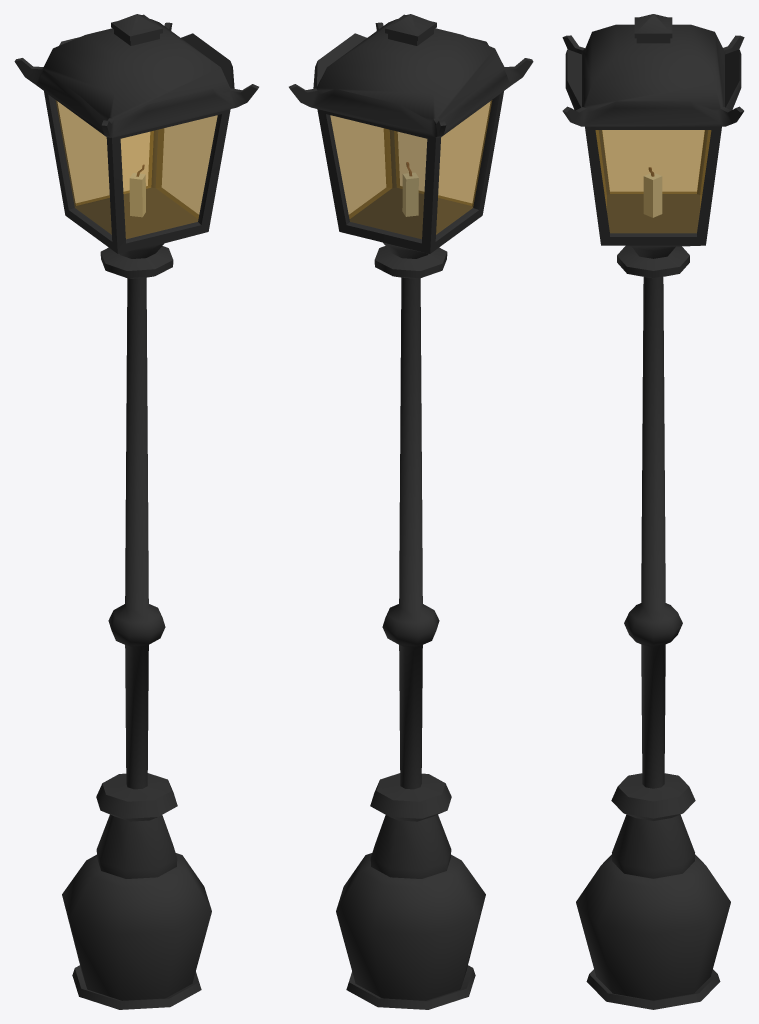
Rendered from Poste.fbx.
3 views of the same model, side by side, from view 1: azimuth 30°, elevation 25°; view 2: azimuth 150°, elevation 25°; view 3: azimuth 270°, elevation 25° (orthographic).
Visible parts, largest first — view 1: Poste; view 2: Poste; view 3: Poste.
Part boxes in pixels (x1,y1,x2,y2): Poste: [14, 14, 258, 1009]; Poste: [289, 14, 533, 1009]; Poste: [562, 14, 744, 1009].
Size of the model in its own units: 54.17 by 318 by 54.17.
